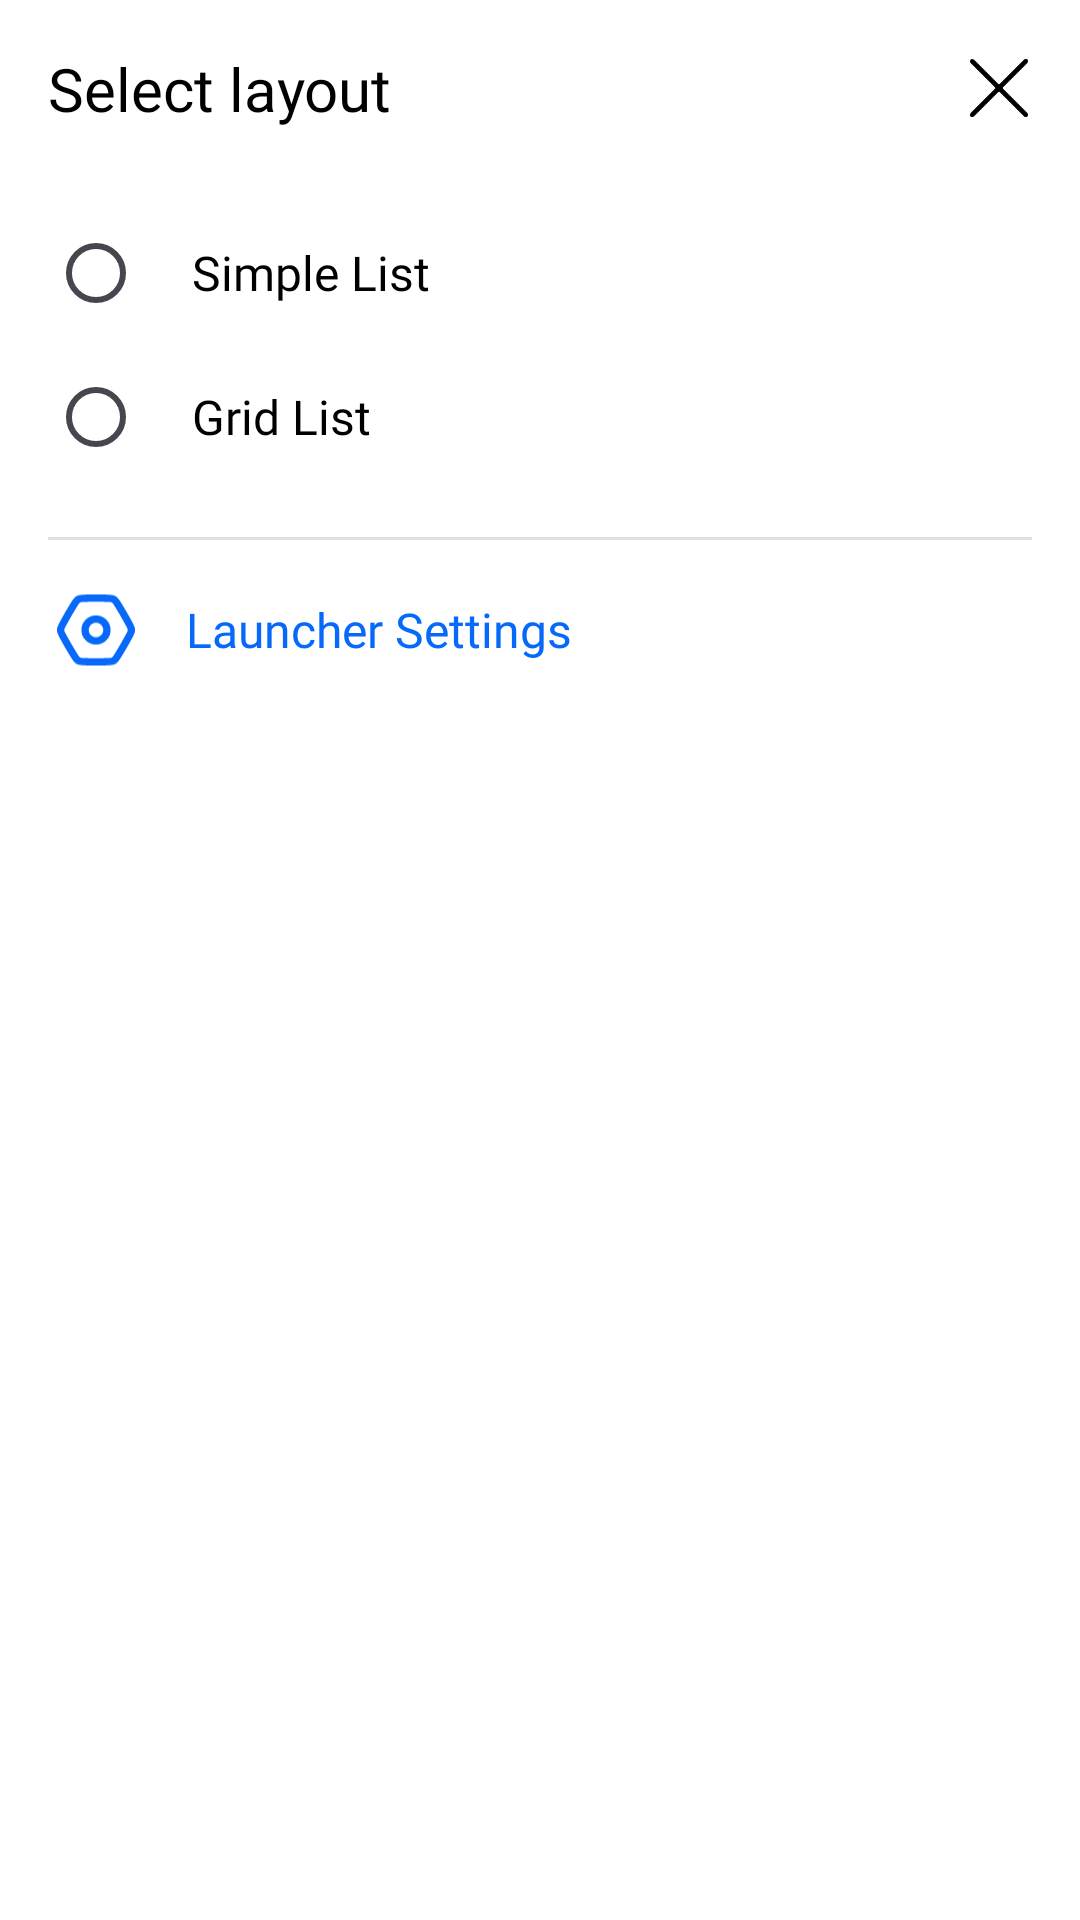

Screen size 1080px x 1920px. Icon name, then its center in pixels as (x=x, y=y):
close: (x=999, y=88)
